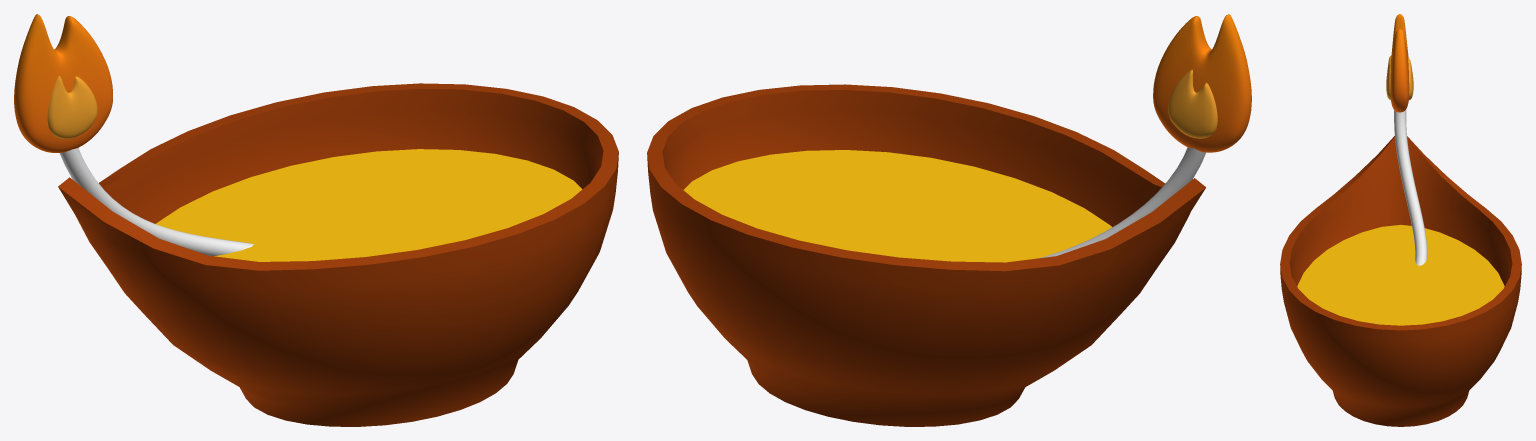
File: diya_lamp.gltf
3 views of the same model, side by side, from view 1: azimuth 30°, elevation 25°; view 2: azimuth 150°, elevation 25°; view 3: azimuth 270°, elevation 25° (orthographic). The views are drawn at different scales.
Visible parts, largest first — view 1: Sphere.531; view 2: Sphere.531; view 3: Sphere.531.
Boxes of the visible parts, x1,y1,x2,y2 form: Sphere.531: (14, 14, 618, 426); Sphere.531: (647, 14, 1251, 426); Sphere.531: (1280, 14, 1521, 426).
Bounding box in the file's own units: 2.28 × 1.67 × 1.34.
2 materials, 2 textured.
